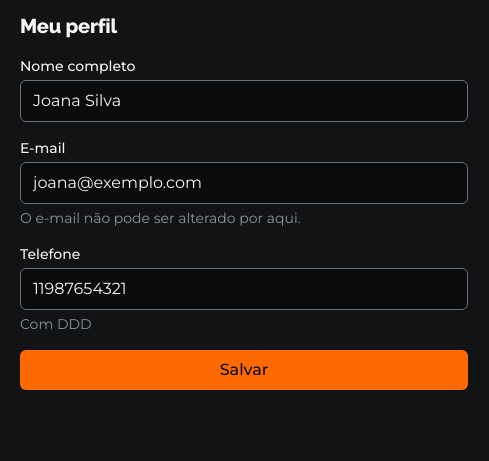
Scenario: Perfil › salva nome e telefone e confirma
Replace the text in the field labelled "Nome completo" with "Joana M. Silva": point(244, 101) left=20, top=80, right=468, bottom=122
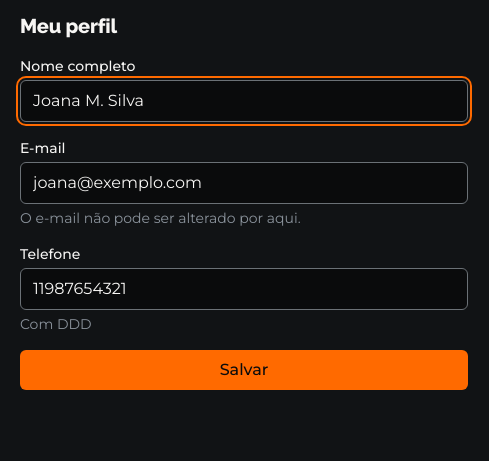
Click the button "Salvar": point(244, 370) left=20, top=350, right=468, bottom=390
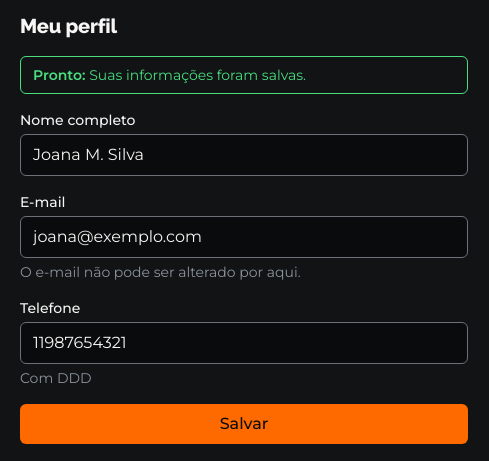
Now the message shows "informações foram salvas", box left=89, top=66, right=306, bottom=84
